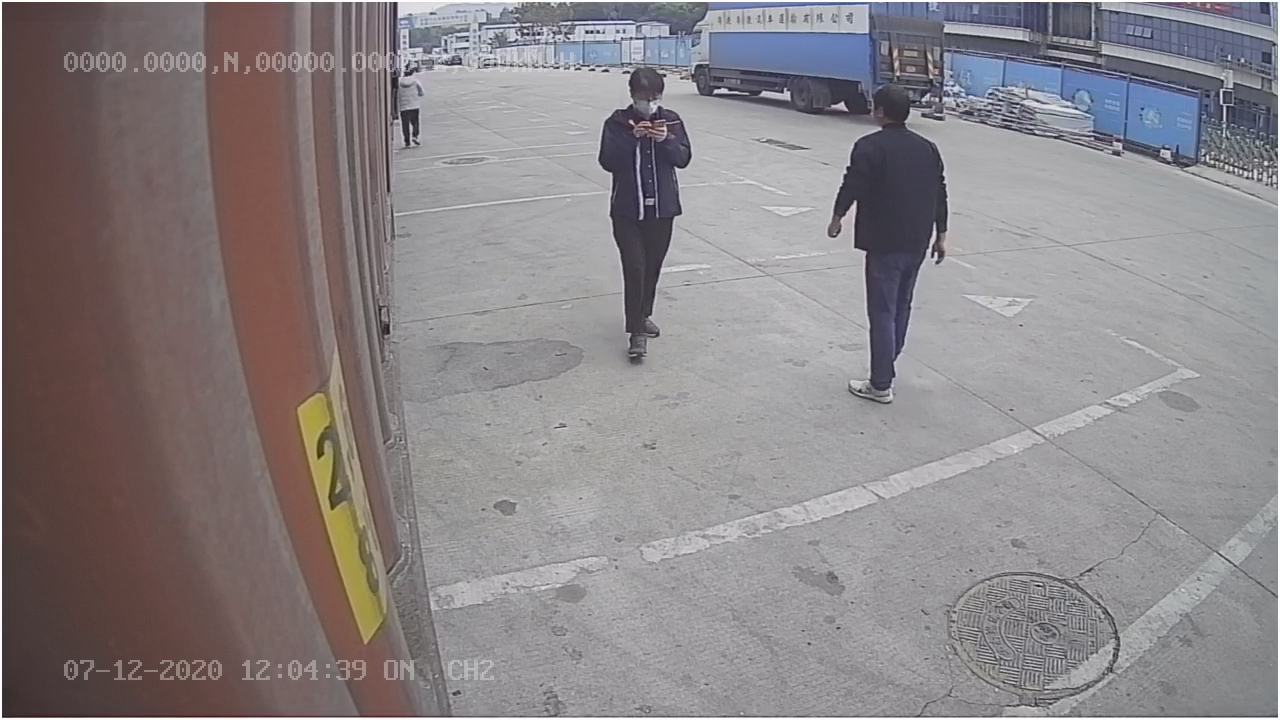person: (591, 67, 692, 364)
